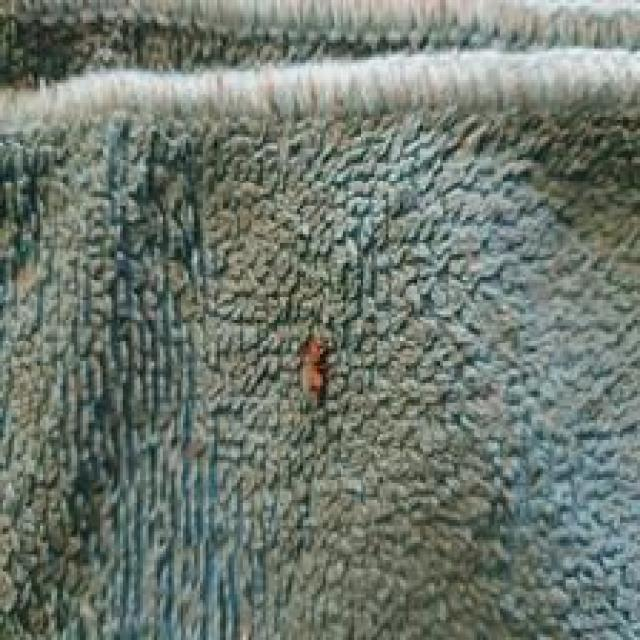Culex: (294, 333, 334, 407)
